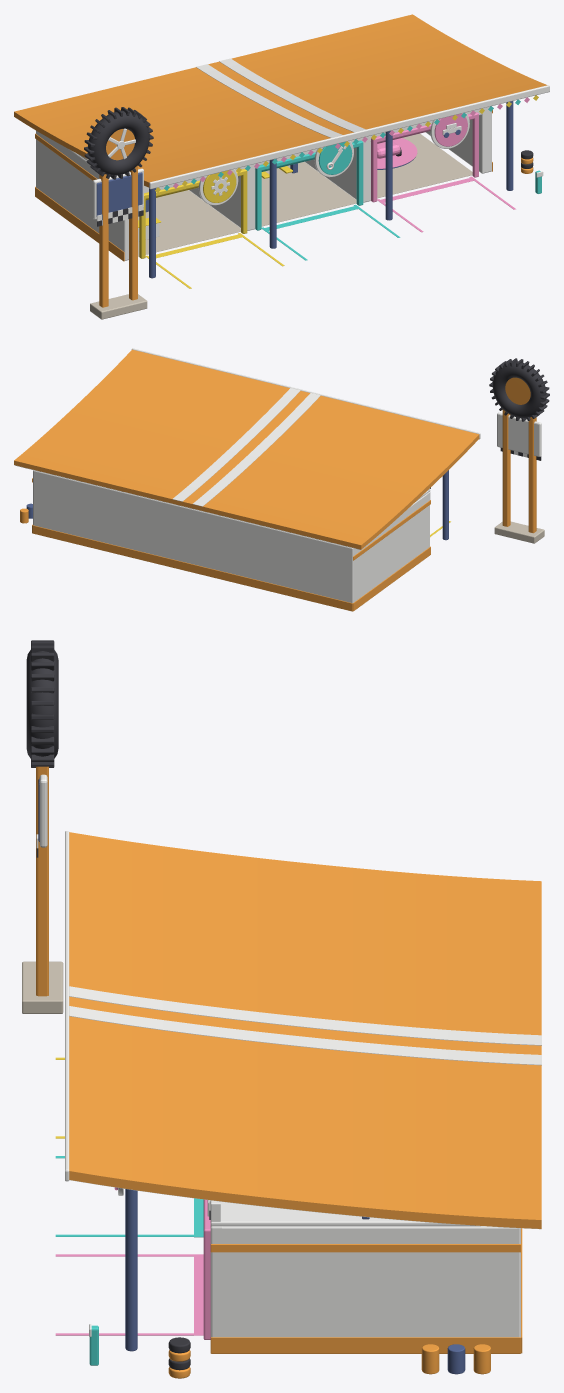
The model's file is pit_stop_3.fbx.
3 renders of one model, top to bottom at view 1: azimuth 30°, elevation 25°; view 2: azimuth 150°, elevation 25°; view 3: azimuth 270°, elevation 25°, orthographic. The views are drawn at different scales.
Visible parts, largest first — view 1: Visual, Spin_Y; view 2: Visual, Spin_Y; view 3: Visual, Spin_Y.
Part boxes in pixels (<box>): Visual: <box>14,14,549,319</box>; Spin_Y: <box>84,107,153,179</box>; Visual: <box>14,348,544,611</box>; Spin_Y: <box>489,358,549,421</box>; Visual: <box>22,766,541,1378</box>; Spin_Y: <box>26,640,58,767</box>.
Size of what is drawn, in the model's own units: 3769 by 1487 by 2011.
